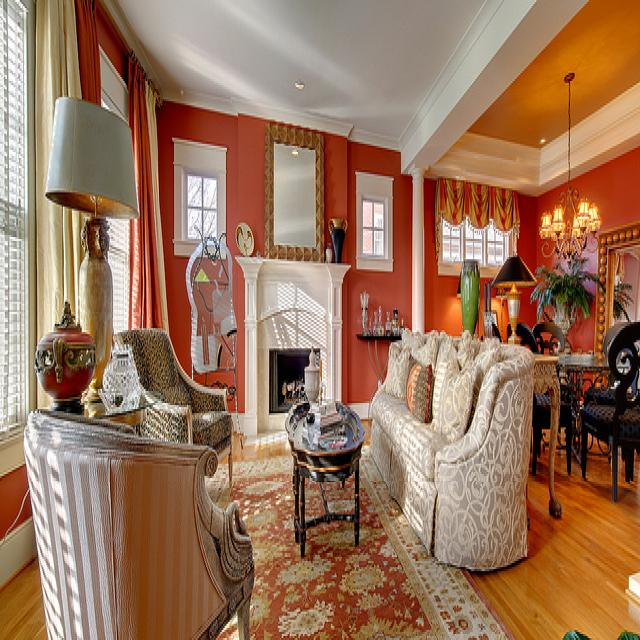chair: (22, 413, 254, 640), (110, 324, 233, 496), (581, 321, 640, 502), (531, 322, 565, 476), (507, 322, 537, 353)
dining table: (553, 346, 607, 460)
